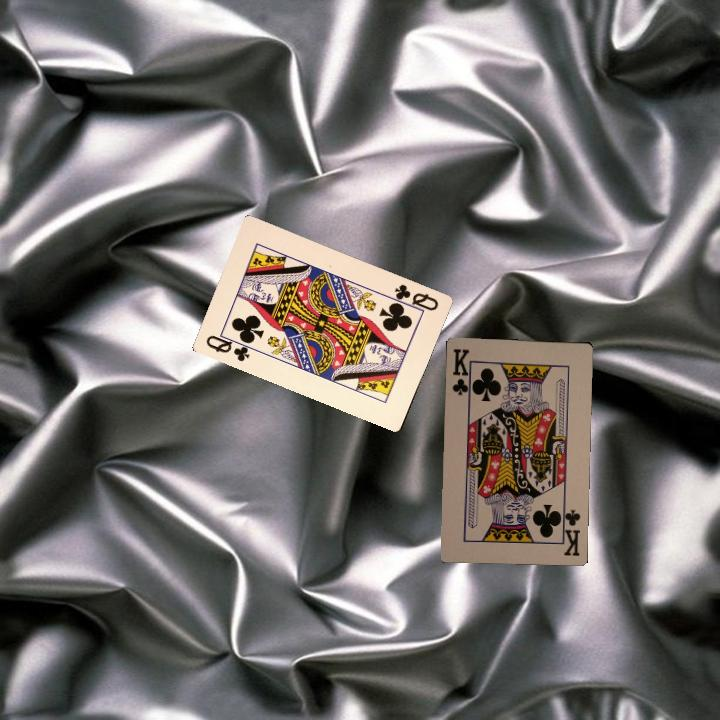Kc: (448, 345, 474, 399), (558, 503, 583, 559)
Qc: (387, 280, 441, 316), (202, 330, 257, 364)
